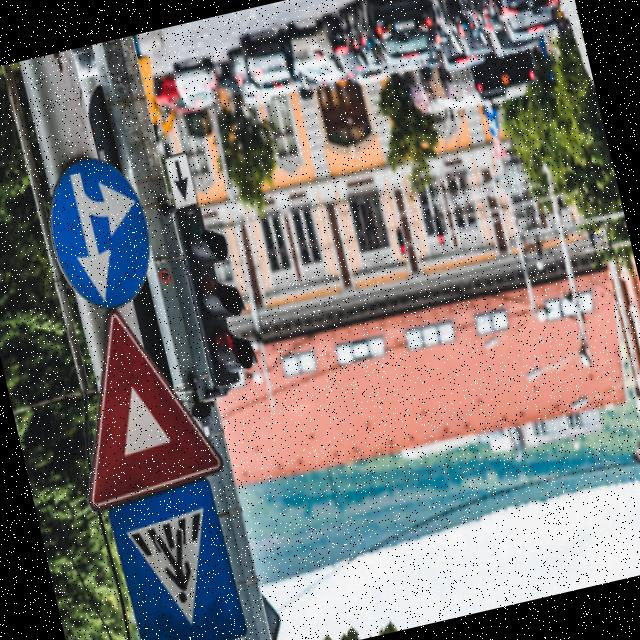crosswalk: (100, 471, 265, 640)
